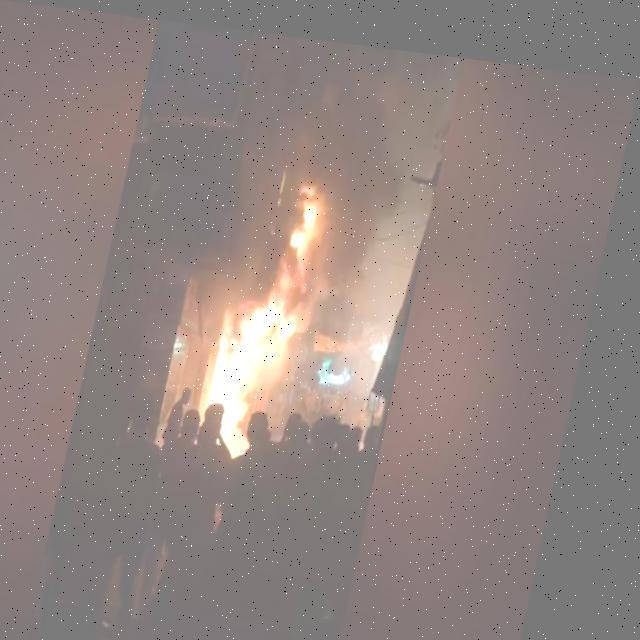Fire: (211, 165, 342, 443)
